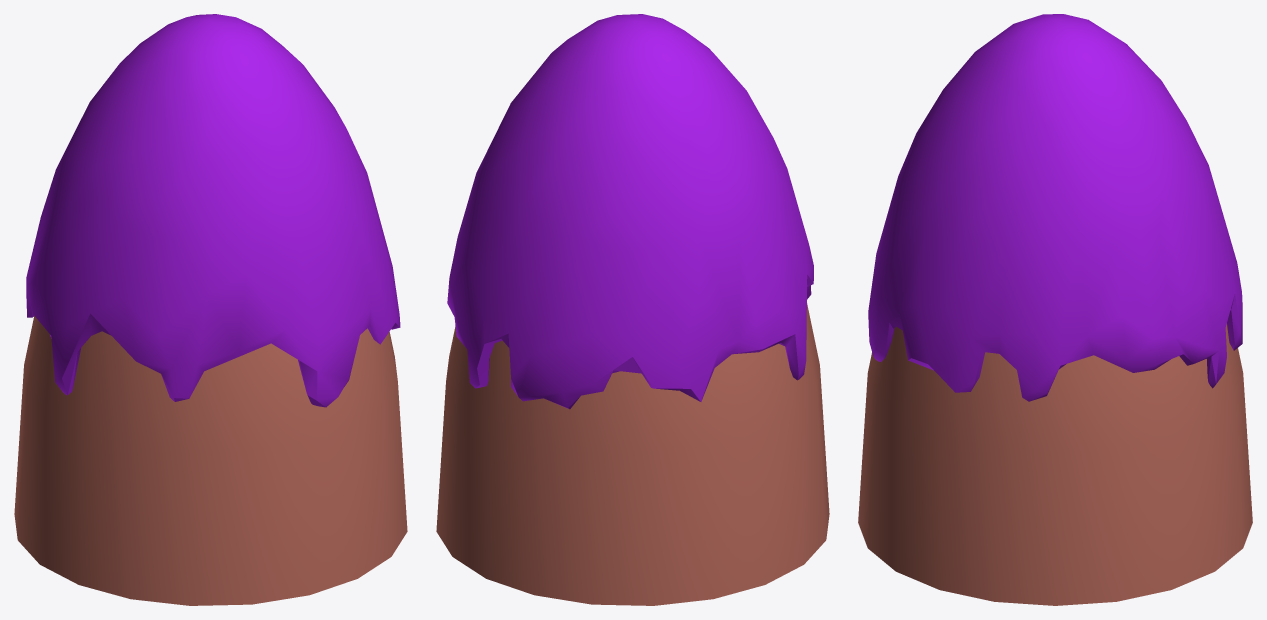
The model's file is CakeMountain.fbx.
3 renders of one model, left to right at view 1: azimuth 30°, elevation 25°; view 2: azimuth 150°, elevation 25°; view 3: azimuth 270°, elevation 25°, orthographic.
Parts seen in each view (by area): view 1: Cylinder.001, Sphere; view 2: Cylinder.001, Sphere; view 3: Cylinder.001, Sphere.
Part boxes in pixels (x1=…): Cylinder.001: x1=26, y1=14, x2=400, y2=407; Sphere: x1=14, y1=316, x2=407, y2=605; Cylinder.001: x1=447, y1=14, x2=813, y2=409; Sphere: x1=436, y1=303, x2=829, y2=605; Cylinder.001: x1=868, y1=14, x2=1242, y2=401; Sphere: x1=858, y1=323, x2=1252, y2=605.
Bounding box in the file's own units: 553 × 775 × 553.
